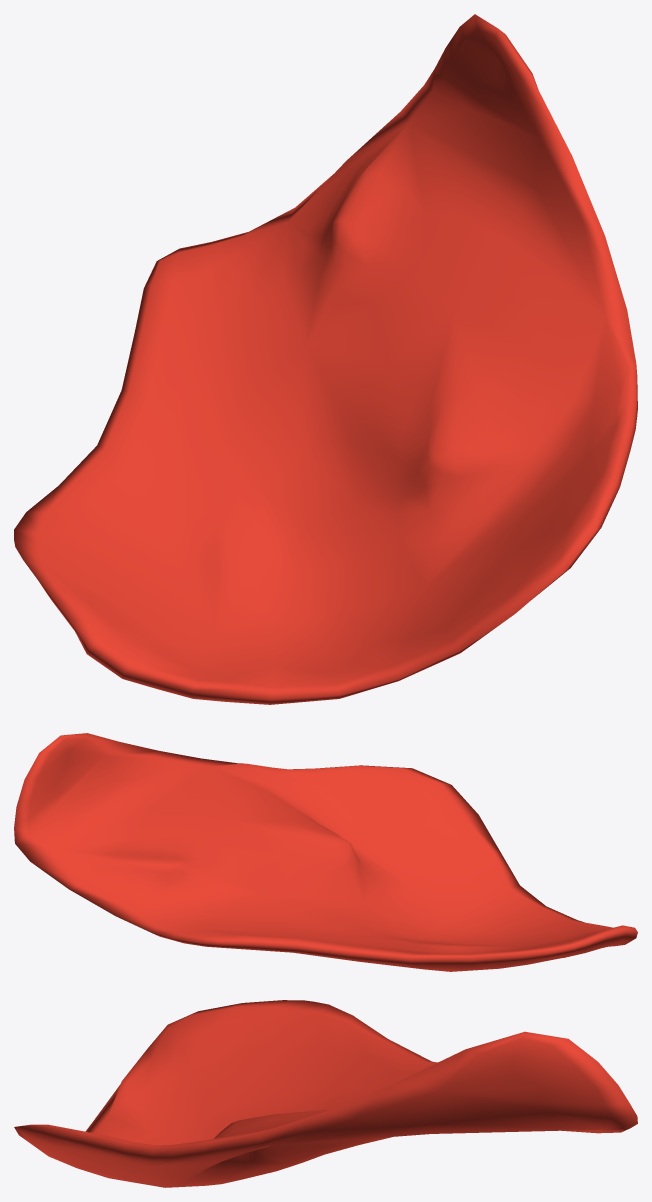
File: Flexor_hallucis_brevis_medial_cuneiform_002.glb
3 views of the same model, one above another, from view 1: azimuth 30°, elevation 25°; view 2: azimuth 150°, elevation 25°; view 3: azimuth 270°, elevation 25° (orthographic). The views are drawn at different scales.
Visible parts, largest first — view 1: Lateral_head_of_flexor_hallucis_brevis_on_medial_cuneiform._; view 2: Lateral_head_of_flexor_hallucis_brevis_on_medial_cuneiform._; view 3: Lateral_head_of_flexor_hallucis_brevis_on_medial_cuneiform._.
Boxes of the visible parts, box(x1,y1,x2,y2) form: Lateral_head_of_flexor_hallucis_brevis_on_medial_cuneiform._: box(14, 14, 637, 704); Lateral_head_of_flexor_hallucis_brevis_on_medial_cuneiform._: box(14, 733, 637, 971); Lateral_head_of_flexor_hallucis_brevis_on_medial_cuneiform._: box(14, 1000, 637, 1187).
Bounding box in the file's own units: 0.016 × 0.00888 × 0.0168.
